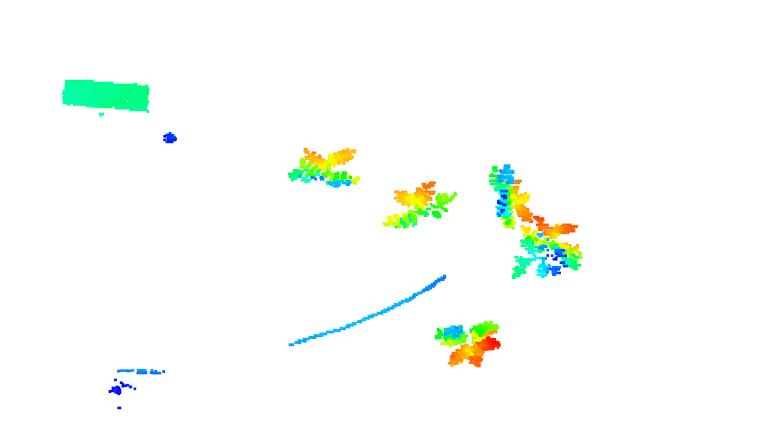chickpea: (508, 214, 588, 283), (382, 179, 459, 231), (286, 143, 365, 189), (432, 320, 505, 368), (487, 162, 537, 230)
